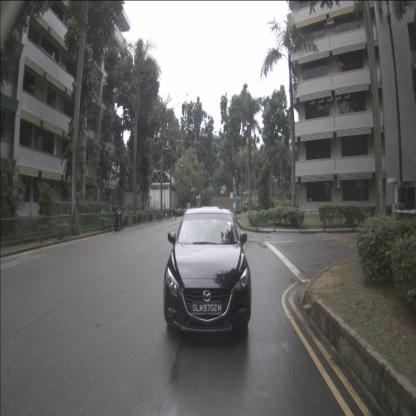vehicle-car: (163, 205, 251, 336)
vehicle-motorcycle: (112, 204, 124, 232)
